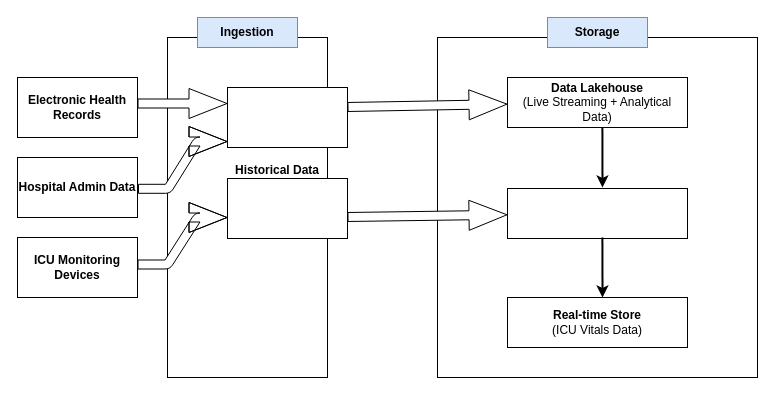
Image size: 775x395. Some labels were removed from this diagram. The centre of each missing label's shape, as x and y in pixels:
Batch Ingestion (ETL): pixel 287 117
Real-time Streaming (Kafka): pixel 287 208
Vector Database (Embeddings for Search): pixel 597 213
